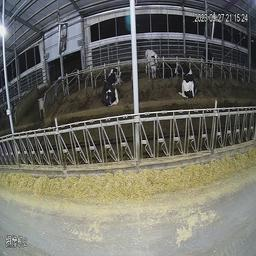cow: (175, 55, 201, 103), (100, 66, 125, 110), (142, 42, 162, 82)
